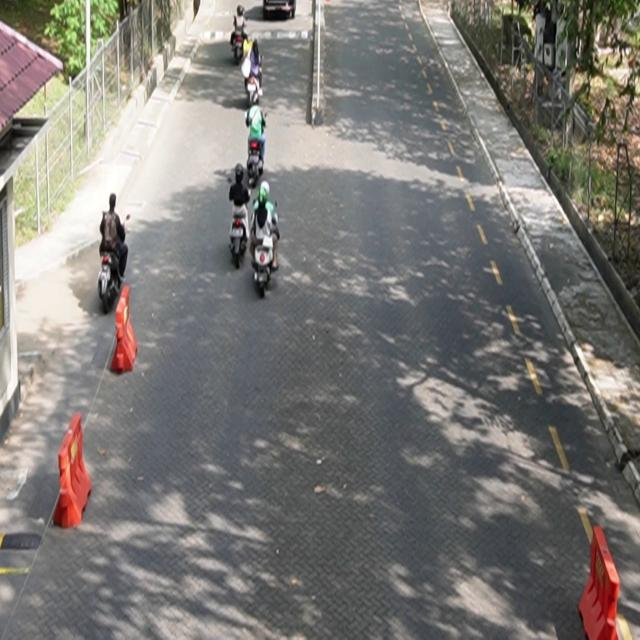car: (264, 1, 297, 21)
